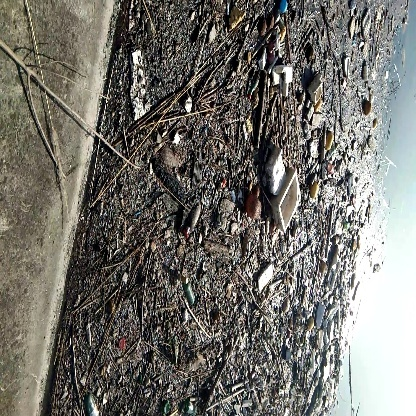plastic-garbage: (262, 145, 307, 231)
